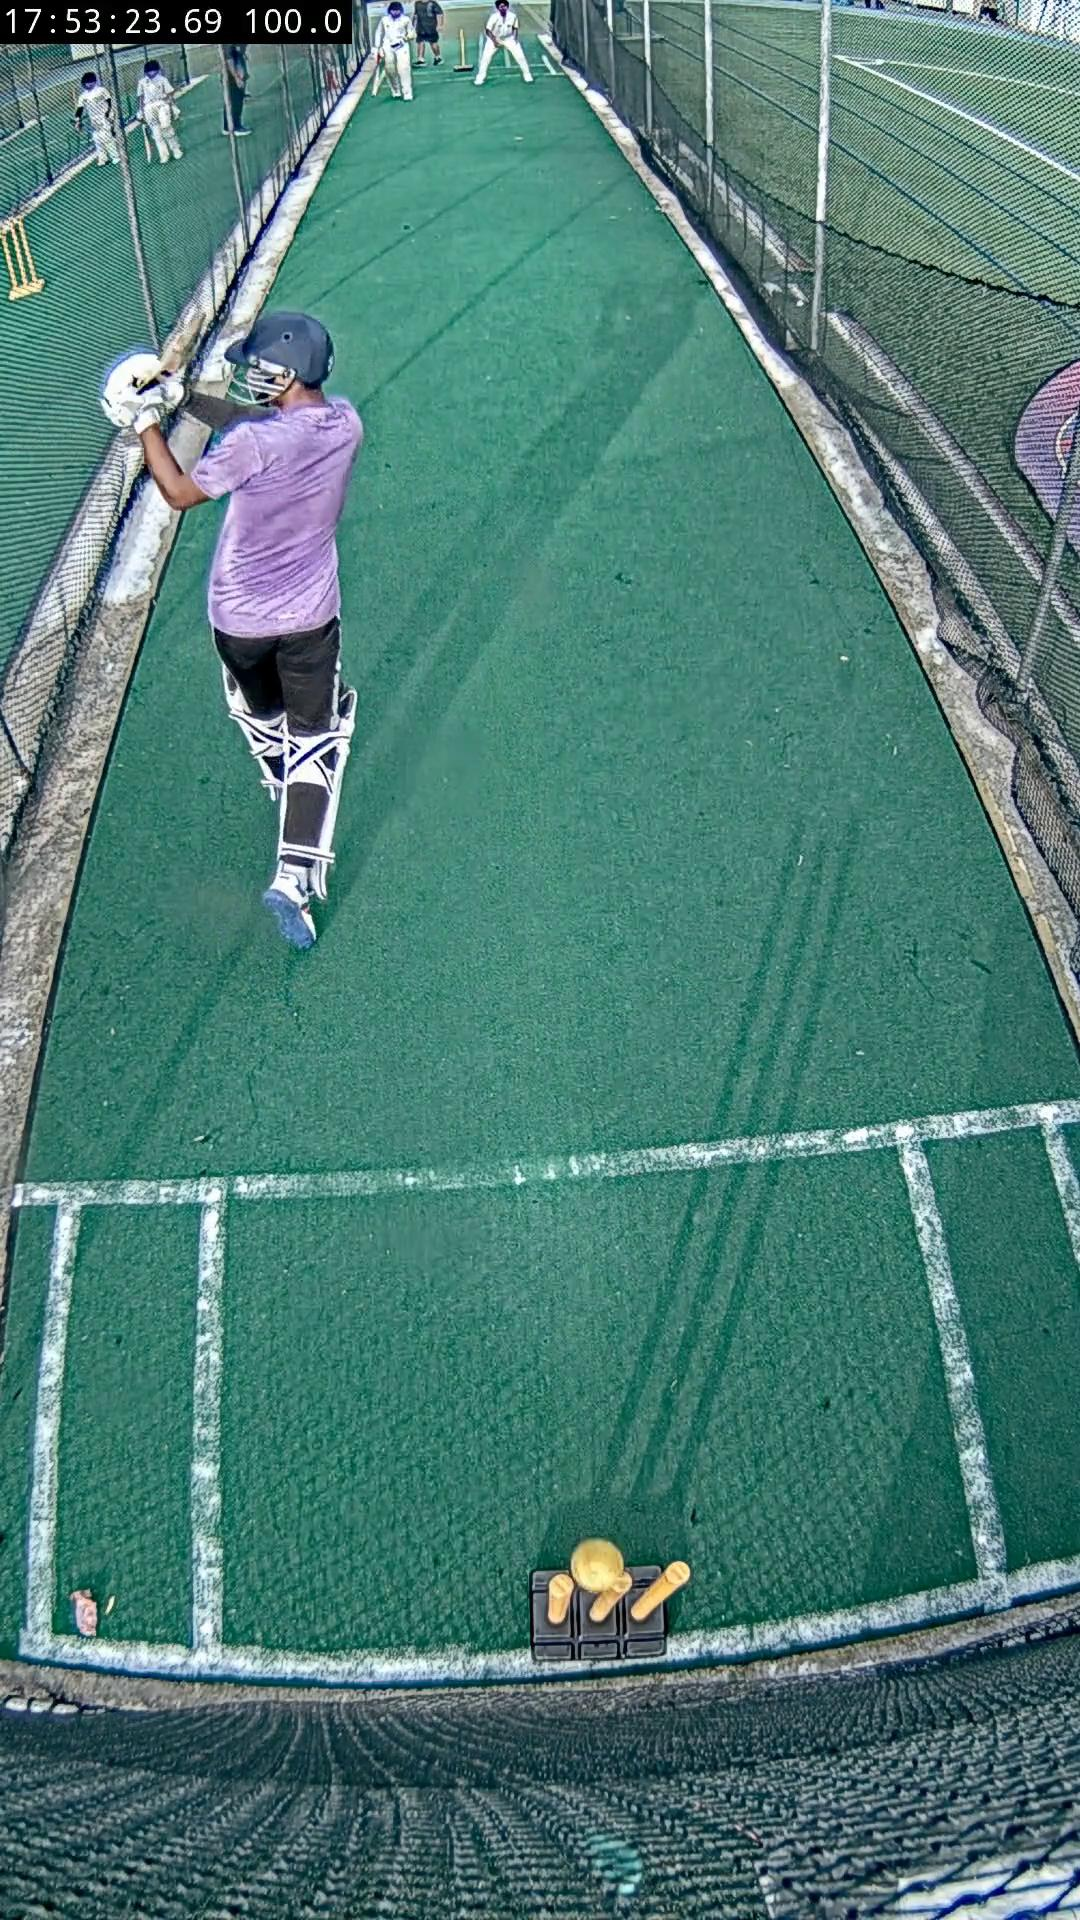ball: (570, 1538, 626, 1592)
bat: (161, 138, 310, 365), (262, 203, 303, 290)
gloves: (102, 348, 183, 431)
helmet: (225, 311, 334, 405)
stumps: (529, 1564, 690, 1662)
